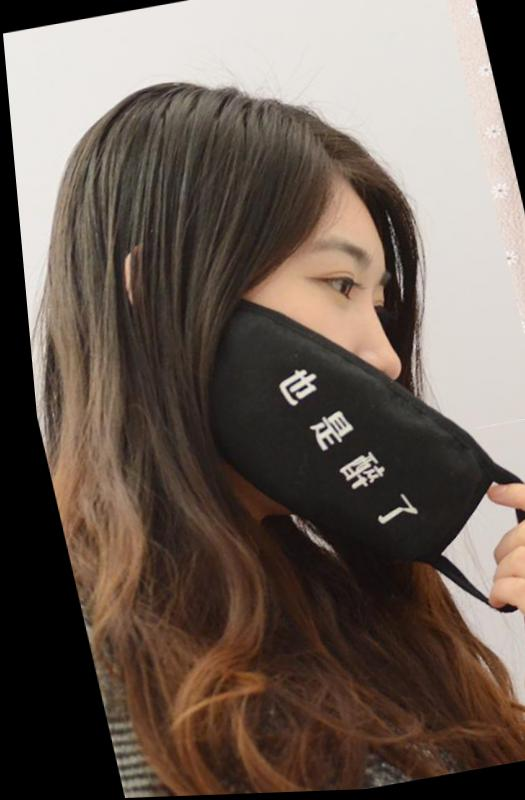WRONG: (201, 219, 433, 490)
